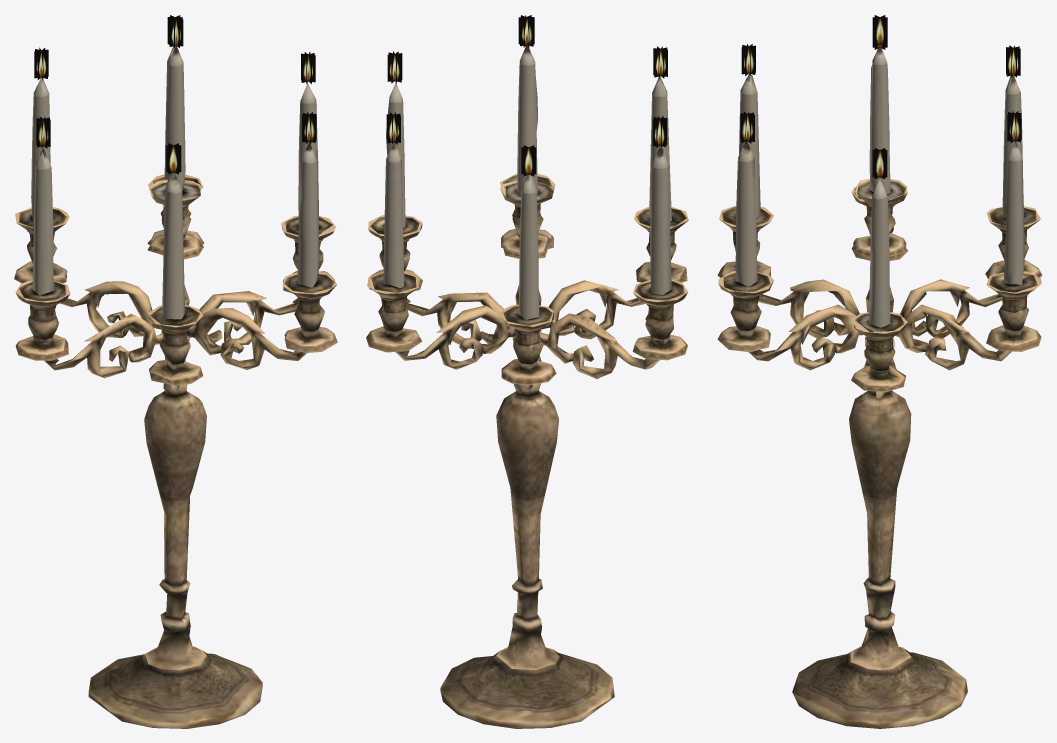
File: candleholder.glb
3 renders of one model, left to right at view 1: azimuth 30°, elevation 25°; view 2: azimuth 150°, elevation 25°; view 3: azimuth 270°, elevation 25°, orthographic.
Visible parts, largest first — view 1: brass_candleholder_03; view 2: brass_candleholder_03; view 3: brass_candleholder_03.
Part boxes in pixels (x1,y1,x2,y2): brass_candleholder_03: [14, 15, 337, 728]; brass_candleholder_03: [366, 15, 688, 728]; brass_candleholder_03: [717, 15, 1042, 728].
Bounding box in the file's own units: 0.4077 × 0.8353 × 0.3646.
Materials: 2 (2 with a texture image).
